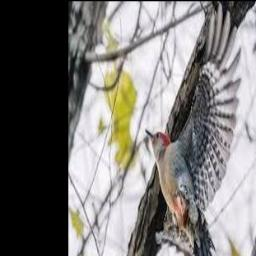Woodpecker: (146, 1, 241, 256)
